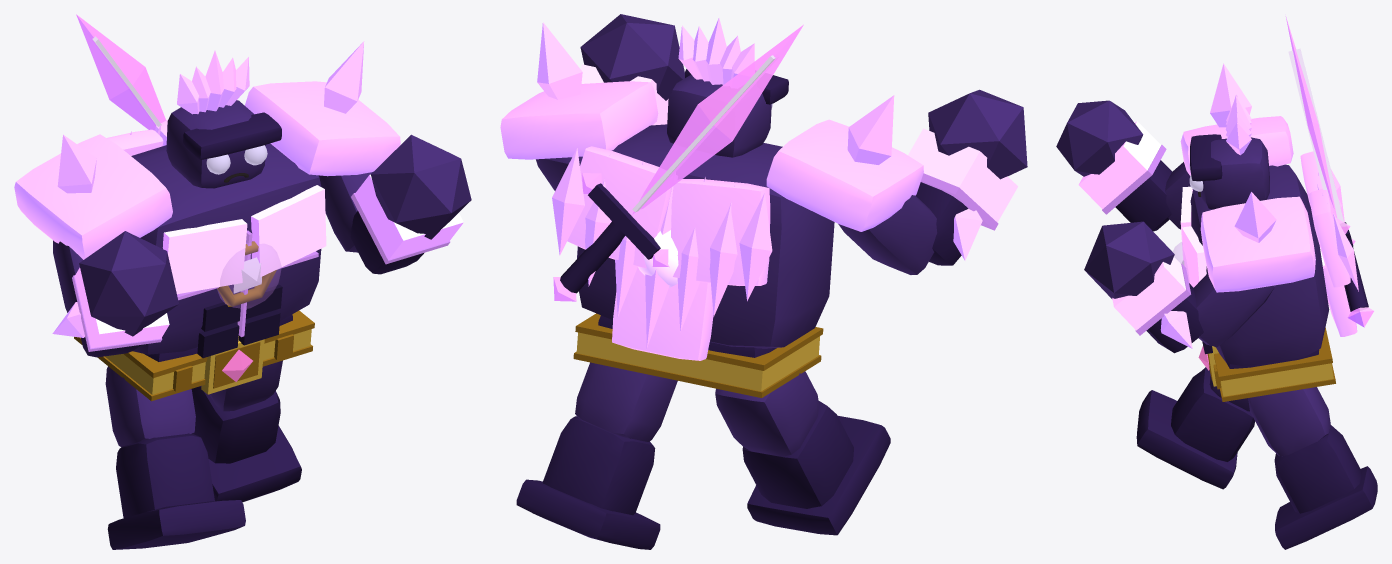
Rendered from crystal.glb.
3 renders of one model, left to right at view 1: azimuth 30°, elevation 25°; view 2: azimuth 150°, elevation 25°; view 3: azimuth 270°, elevation 25°, orthographic. The views are drawn at different scales.
Bounding box in the file's own units: 2.25 × 2.88 × 1.85.
